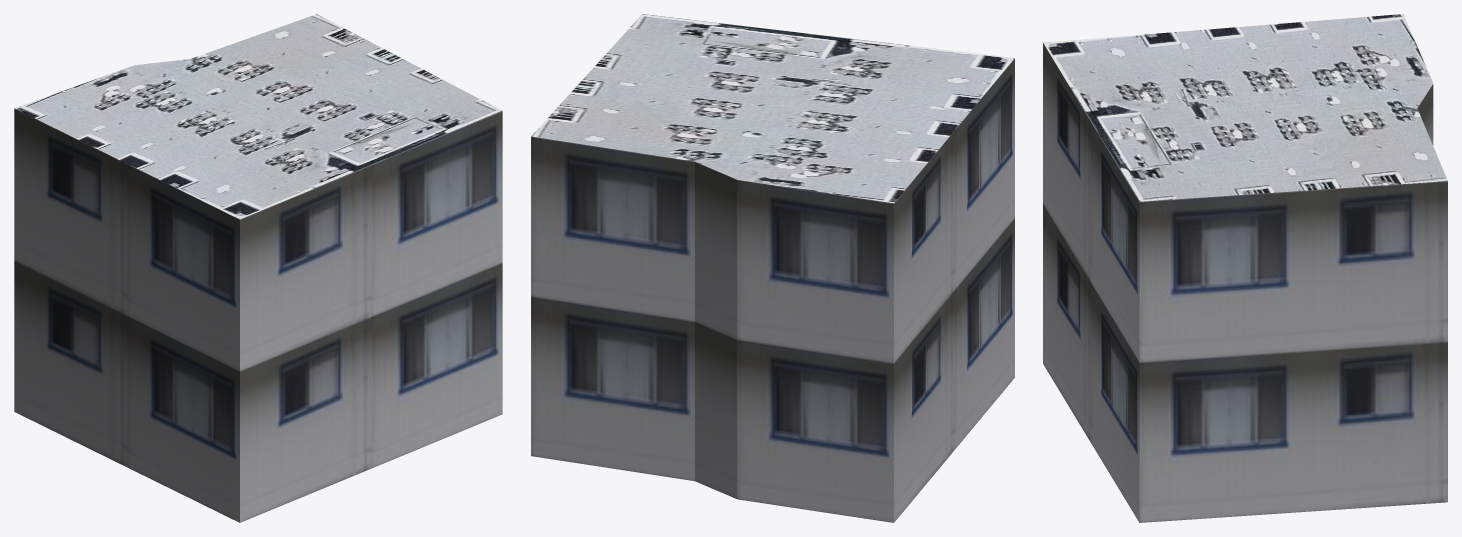
Rendered from ResTex__2646.fbx.
The picture shows the model from 3 angles, left to right: view 1: azimuth 30°, elevation 25°; view 2: azimuth 150°, elevation 25°; view 3: azimuth 270°, elevation 25°; orthographic projection. The views are drawn at different scales.
Visible parts, largest first — view 1: CityEngineMaterial_9_m, CityEngineMaterial_m; view 2: CityEngineMaterial_9_m, CityEngineMaterial_m; view 3: CityEngineMaterial_9_m, CityEngineMaterial_m.
Part boxes in pixels (x1,y1,x2,y2): CityEngineMaterial_9_m: [14, 108, 502, 522]; CityEngineMaterial_m: [15, 14, 501, 219]; CityEngineMaterial_9_m: [531, 58, 1014, 522]; CityEngineMaterial_m: [531, 14, 1014, 203]; CityEngineMaterial_9_m: [1043, 43, 1447, 522]; CityEngineMaterial_m: [1043, 14, 1447, 201].
Size of the model in its own units: 7.52 by 6 by 6.86.
Materials: 2 (2 with a texture image).
